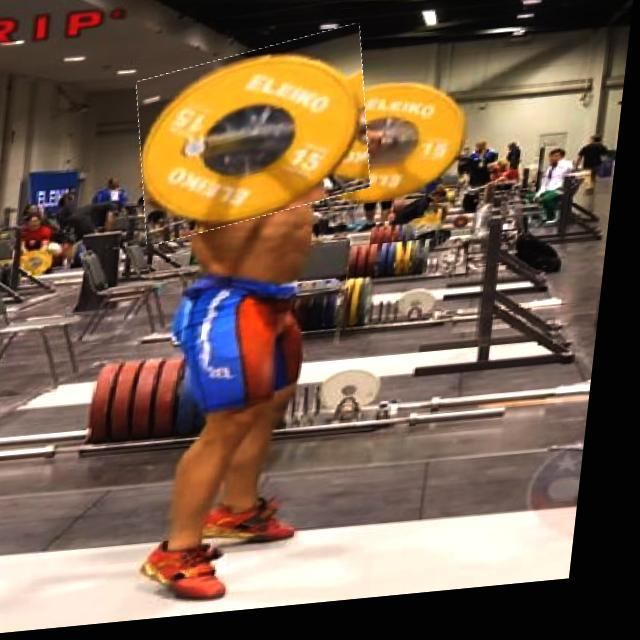barbell: (132, 39, 383, 244)
